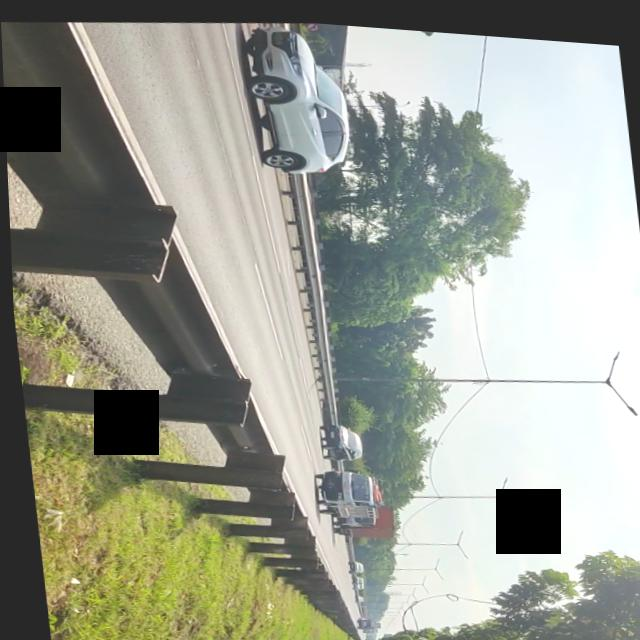Golongan I: (233, 14, 368, 184), (304, 459, 379, 519), (307, 416, 367, 463)
